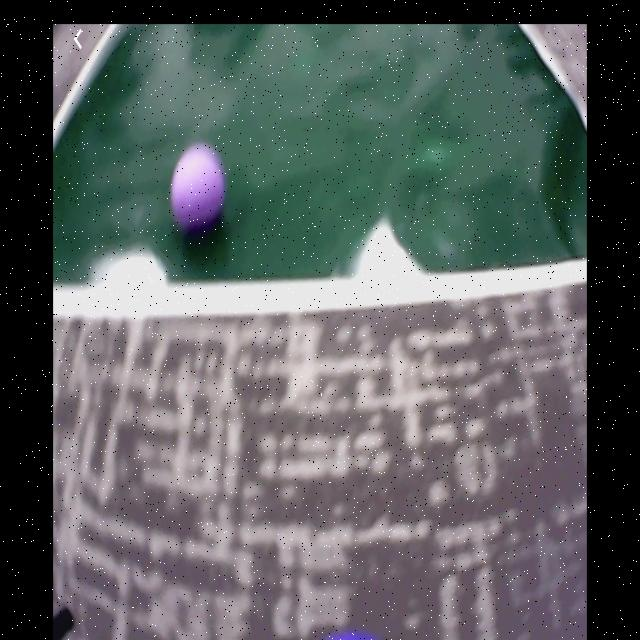ball: (172, 147, 231, 233)
